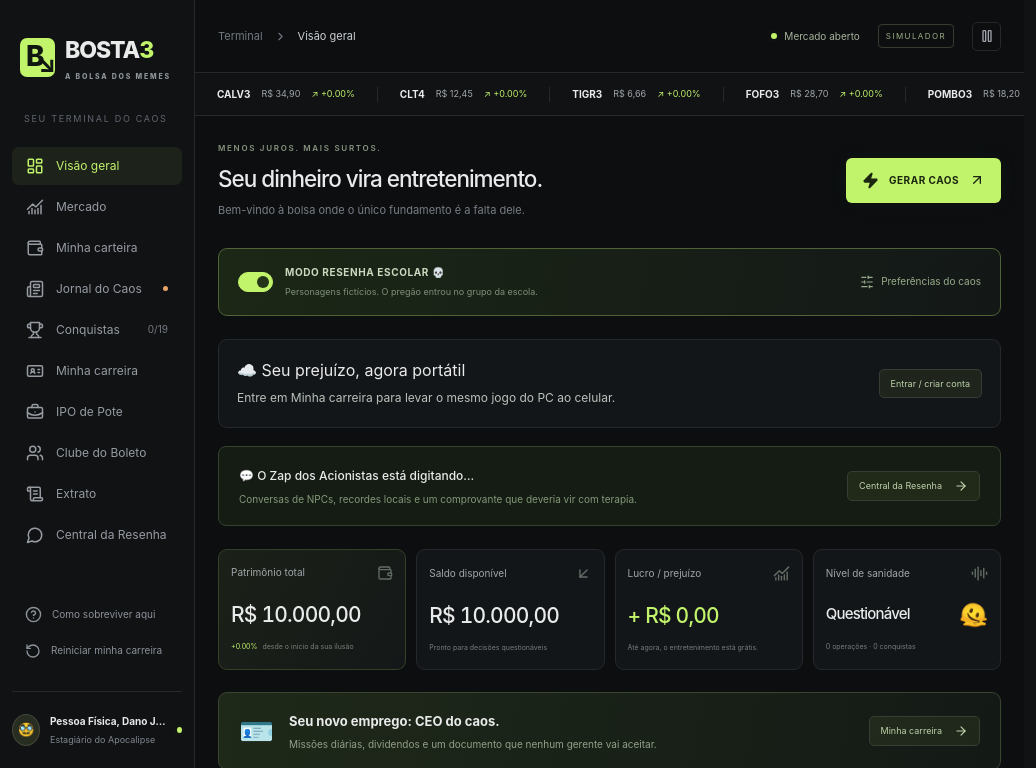
Test: Modo Resenha Escolar integrado › som começa desligado mesmo quando outra sessão o habilitou
Click the heading "Preferências do caos": {"x": 921, "y": 282} [860,274,981,290]
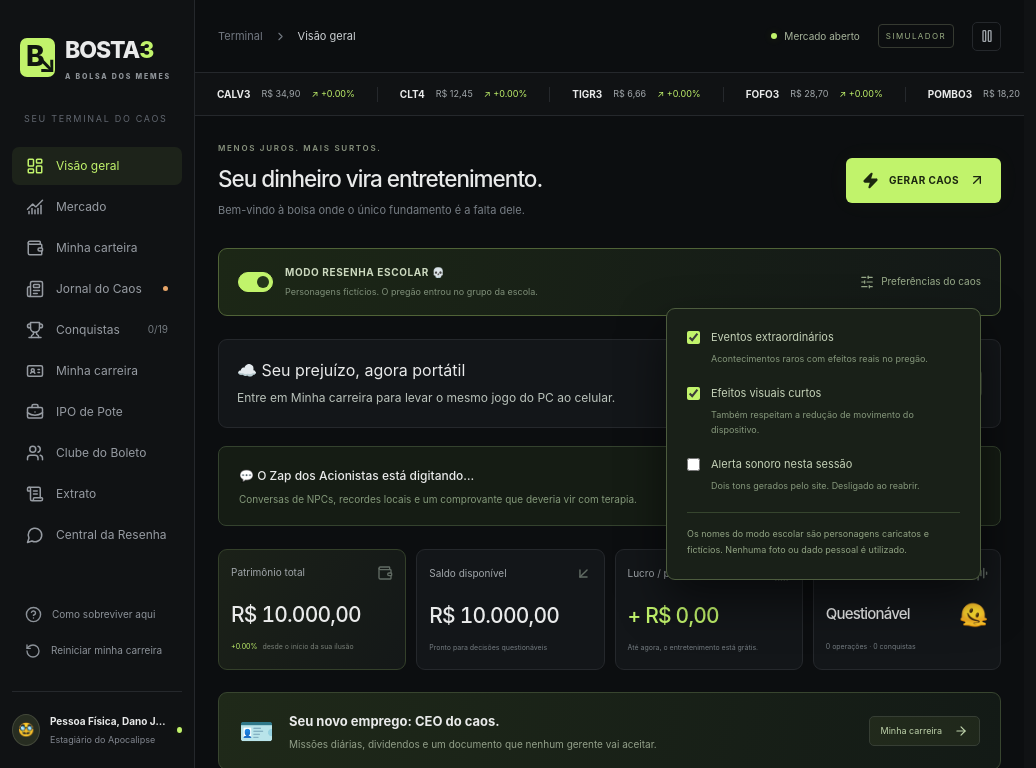
Expected: the checkbox labelled "Alerta sonoro" is not checked, [687,458,700,471]
